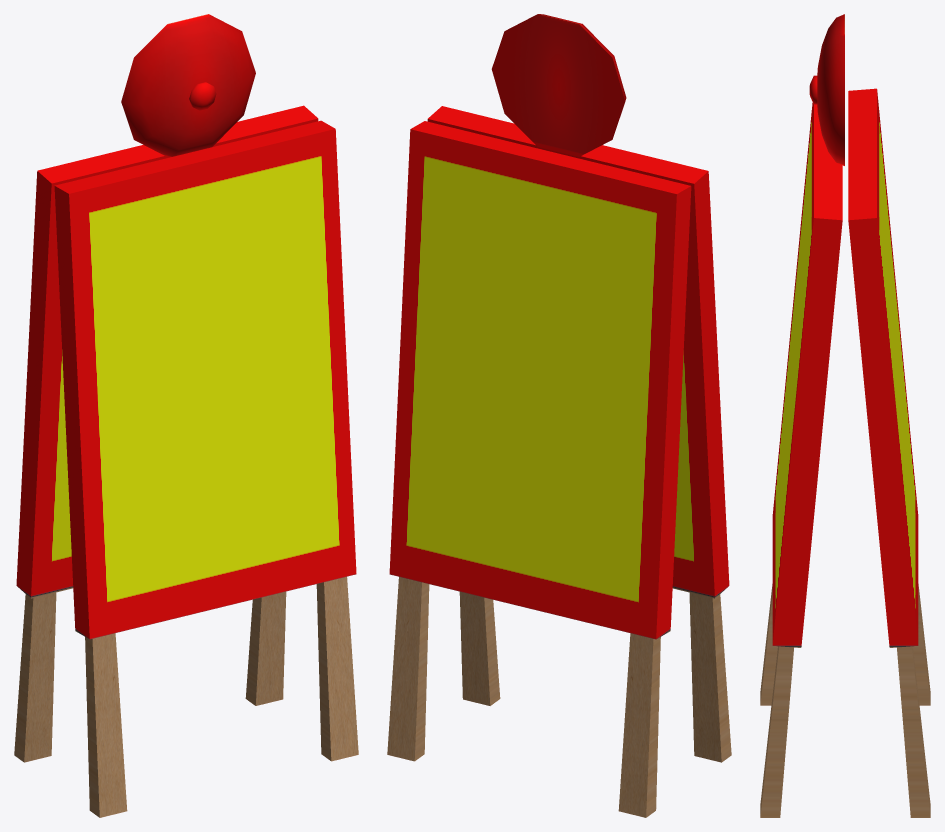
The model's file is signalModel.FBX.
The picture shows the model from 3 angles, left to right: view 1: azimuth 30°, elevation 25°; view 2: azimuth 150°, elevation 25°; view 3: azimuth 270°, elevation 25°; orthographic projection.
Visible parts, largest first — view 1: Signal; view 2: Signal; view 3: Signal.
Boxes of the visible parts, box(x1,y1,x2,y2) form: Signal: box(14, 14, 358, 817); Signal: box(387, 14, 731, 817); Signal: box(760, 14, 930, 817).
Bounding box in the file's own units: 39.11 × 21.75 × 103.
1 material, 1 textured.
